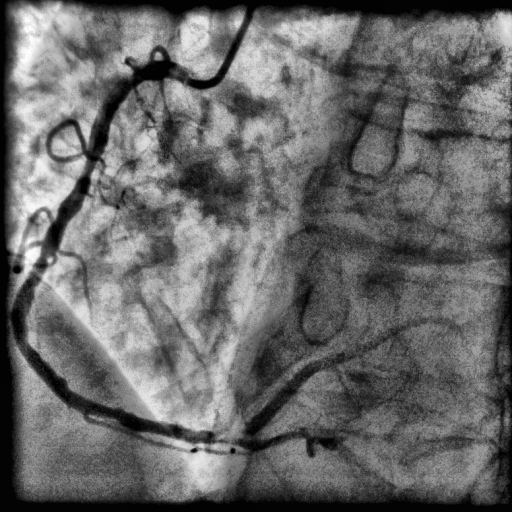pborca: (241, 317, 464, 437)
pda: (242, 427, 337, 451)
rca: (12, 60, 243, 447)
